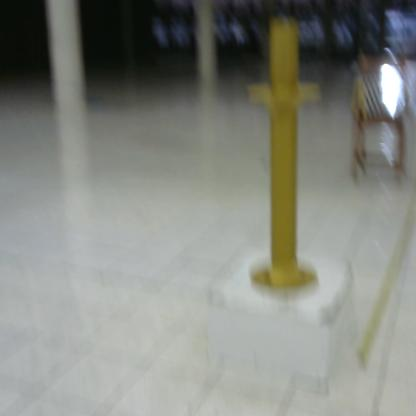pole: (239, 9, 330, 302)
